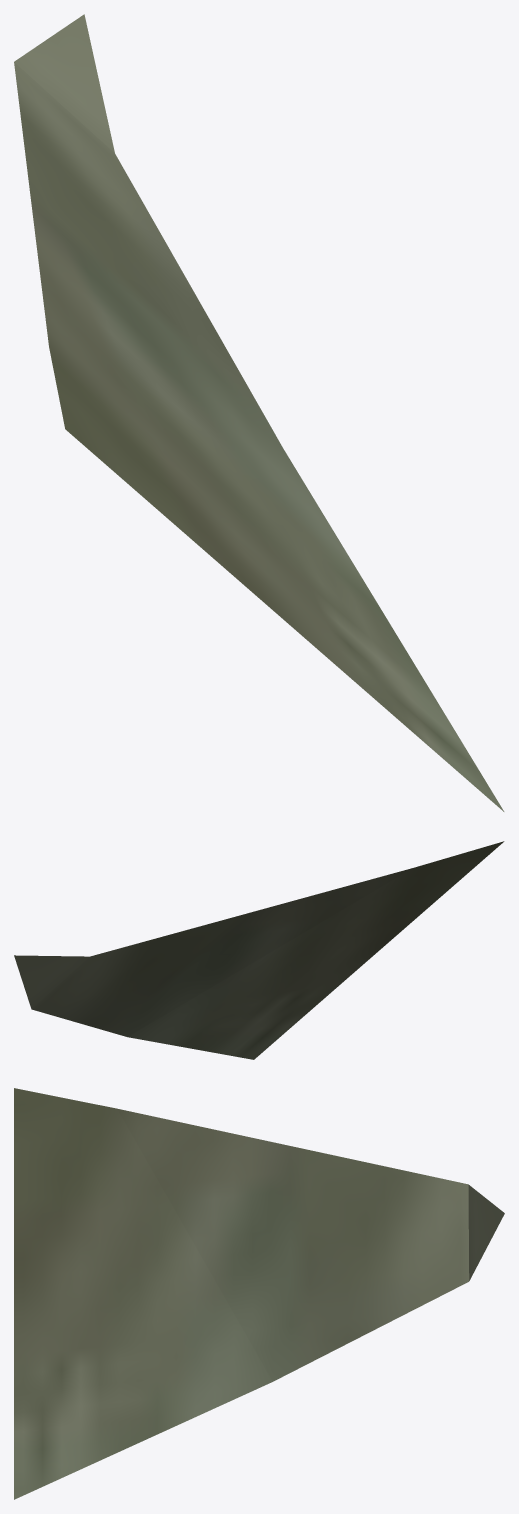
3 renders of one model, top to bottom at view 1: azimuth 30°, elevation 25°; view 2: azimuth 150°, elevation 25°; view 3: azimuth 270°, elevation 25°, orthographic. The views are drawn at different scales.
Size of the model in its own units: 0.1655 by 0.1766 by 0.2742.
1 material, 1 textured.
